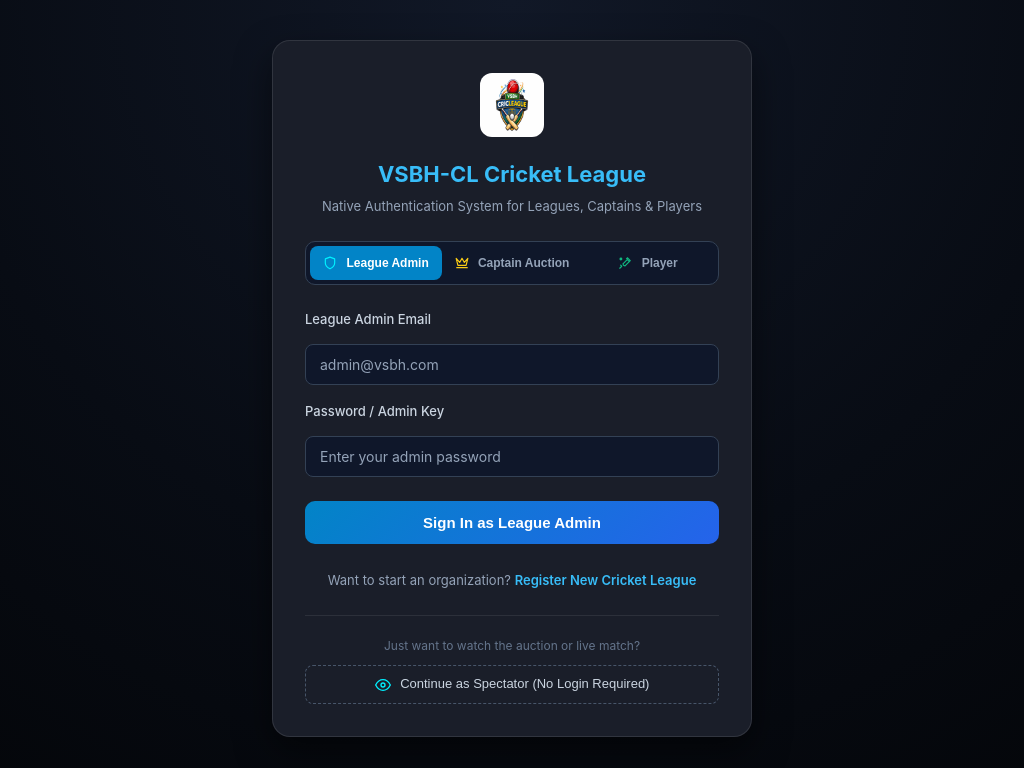
Test: Login Component › switches to Player Login tab
Click the button "Player". click: (648, 263)
box: [582, 246, 714, 280]
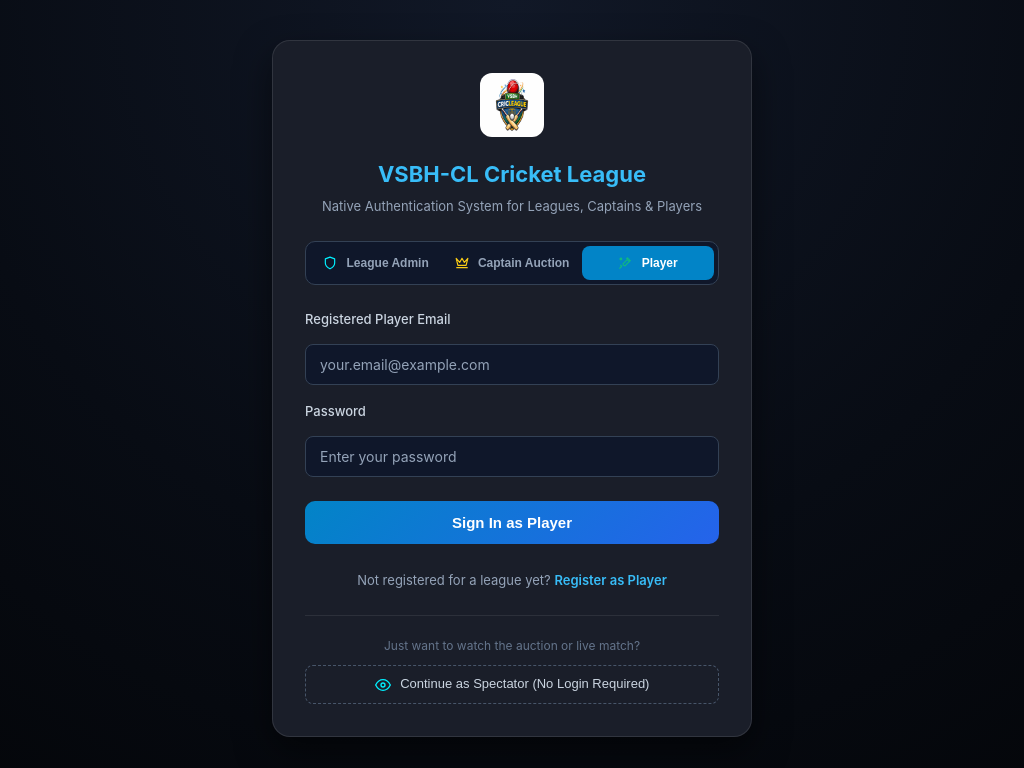
Check: the text "Registered Player Email" is shown, box [305, 311, 450, 327]
Check: the button "Sign In as Player" is shown, box [305, 501, 719, 544]
